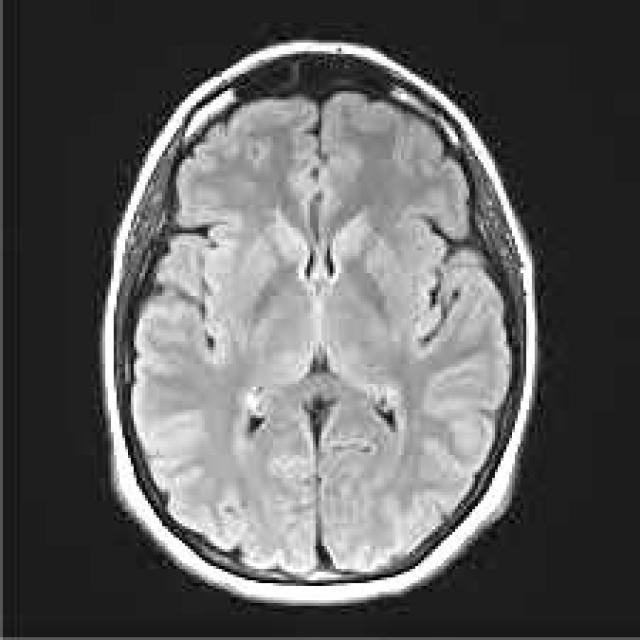notumor: (102, 40, 535, 600)
